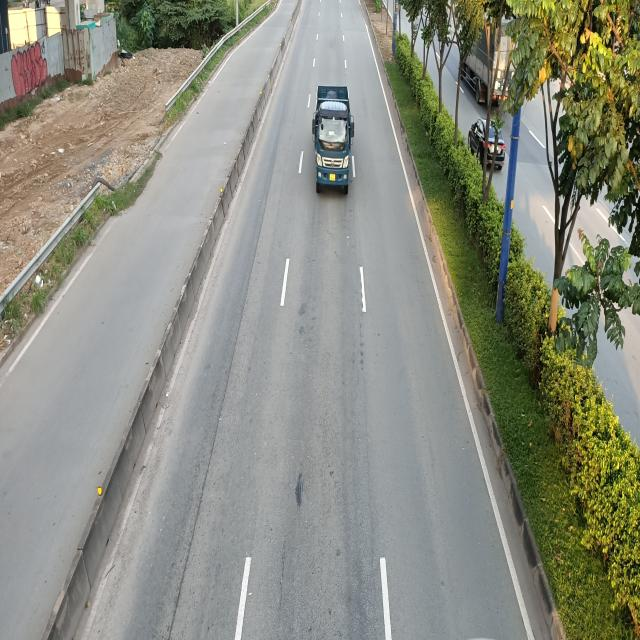truck: (313, 85, 357, 194)
